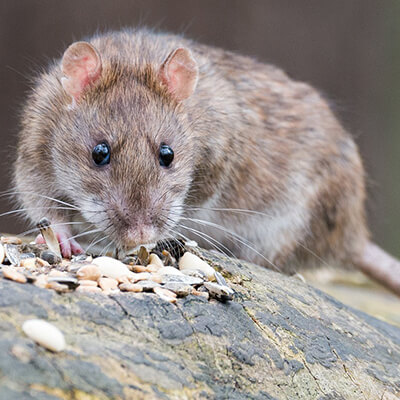rat: (1, 15, 386, 286)
